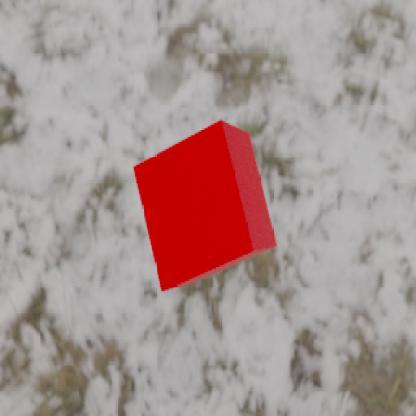red_cube: (133, 117, 277, 292)
